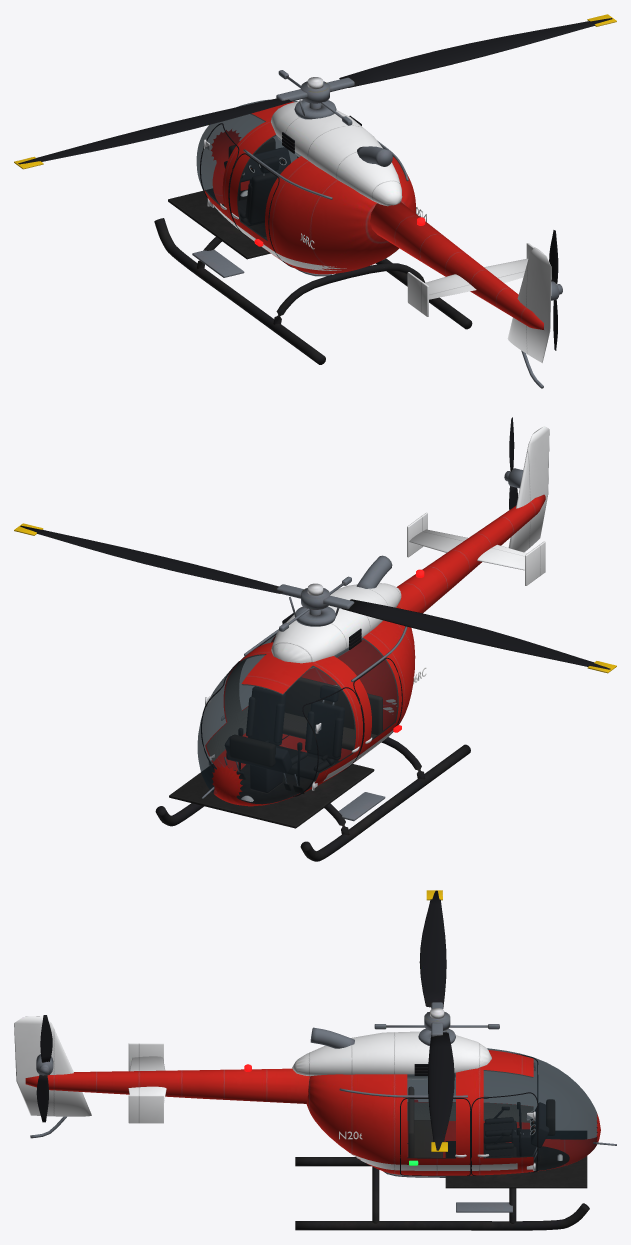
Rendered from Helicopter.glb.
3 renders of one model, top to bottom at view 1: azimuth 30°, elevation 25°; view 2: azimuth 150°, elevation 25°; view 3: azimuth 270°, elevation 25°, orthographic. The views are drawn at different scales.
Parts seen in each view (by area): view 1: Helicopter_Body, Helicopter_Trim, Helicopter_Spin1, Helicopter_Glass, Helicopter_Interior, Helicopter_Spin2; view 2: Helicopter_Body, Helicopter_Glass, Helicopter_Interior, Helicopter_Trim, Helicopter_Spin1; view 3: Helicopter_Body, Helicopter_Glass, Helicopter_Trim, Helicopter_Interior, Helicopter_Spin1, Helicopter_Spin2.
Part boxes in pixels (box(x1,y1,x2,y2)): Helicopter_Body: box(204, 101, 551, 362); Helicopter_Trim: box(154, 100, 559, 388); Helicopter_Spin1: box(14, 14, 616, 169); Helicopter_Glass: box(196, 99, 300, 240); Helicopter_Interior: box(168, 114, 298, 259); Helicopter_Spin2: box(549, 230, 562, 350); Helicopter_Body: box(205, 426, 549, 806); Helicopter_Glass: box(197, 633, 398, 804); Helicopter_Interior: box(169, 638, 398, 828); Helicopter_Trim: box(155, 468, 523, 861); Helicopter_Spin1: box(14, 523, 616, 673); Helicopter_Body: box(14, 1016, 600, 1175); Helicopter_Glass: box(407, 1048, 597, 1171); Helicopter_Trim: box(30, 1027, 616, 1230); Helicopter_Interior: box(407, 1070, 587, 1188); Helicopter_Spin1: box(374, 890, 499, 1151); Helicopter_Spin2: box(36, 1015, 52, 1122).
Size of the model in its own units: 26.1 by 8.96 by 25.5.
10 materials, 5 textured.
